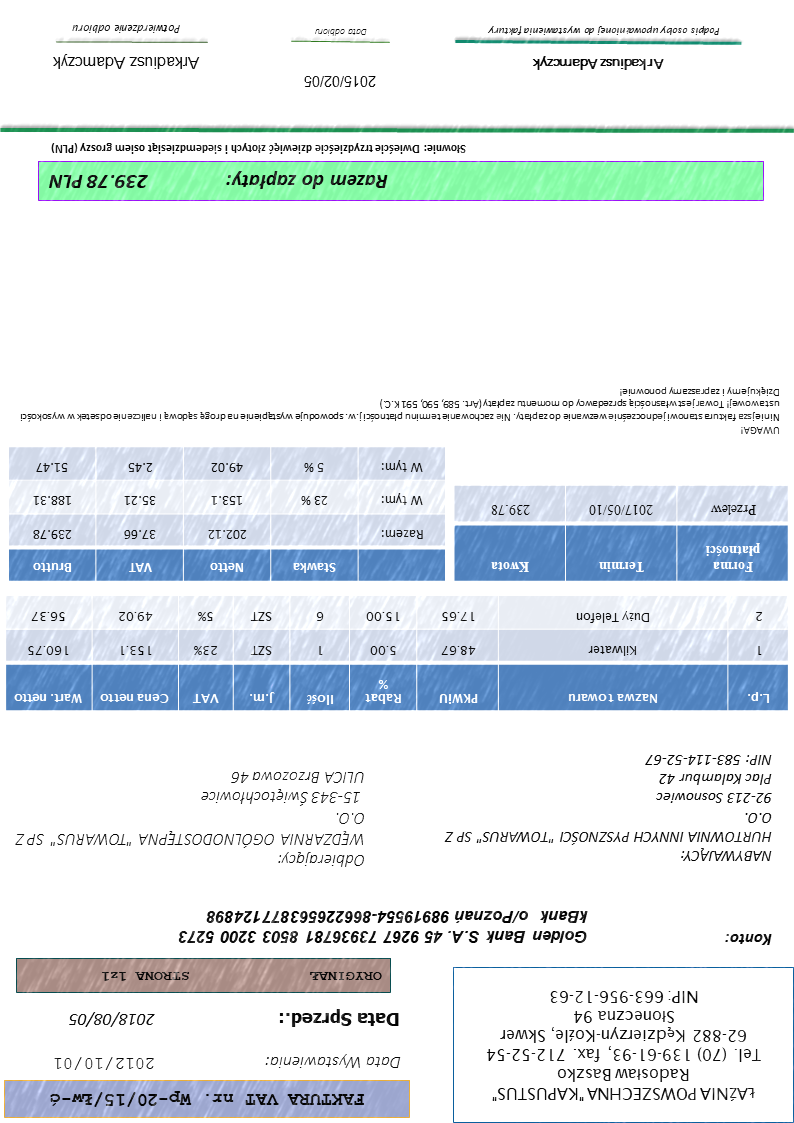Table: (5, 593, 790, 712), (8, 447, 447, 583), (453, 484, 791, 583)
TextBox: (19, 385, 783, 438), (441, 752, 775, 866), (14, 768, 368, 870), (484, 988, 764, 1105), (176, 907, 591, 946), (46, 170, 391, 193), (51, 141, 469, 158), (46, 1089, 367, 1111), (100, 967, 386, 987), (485, 23, 723, 40), (50, 51, 202, 72), (277, 1007, 402, 1031), (262, 1051, 403, 1072), (530, 54, 666, 73), (50, 1052, 157, 1072), (71, 22, 184, 37), (66, 1011, 157, 1029), (303, 73, 379, 91), (725, 930, 774, 949), (315, 27, 370, 39)
